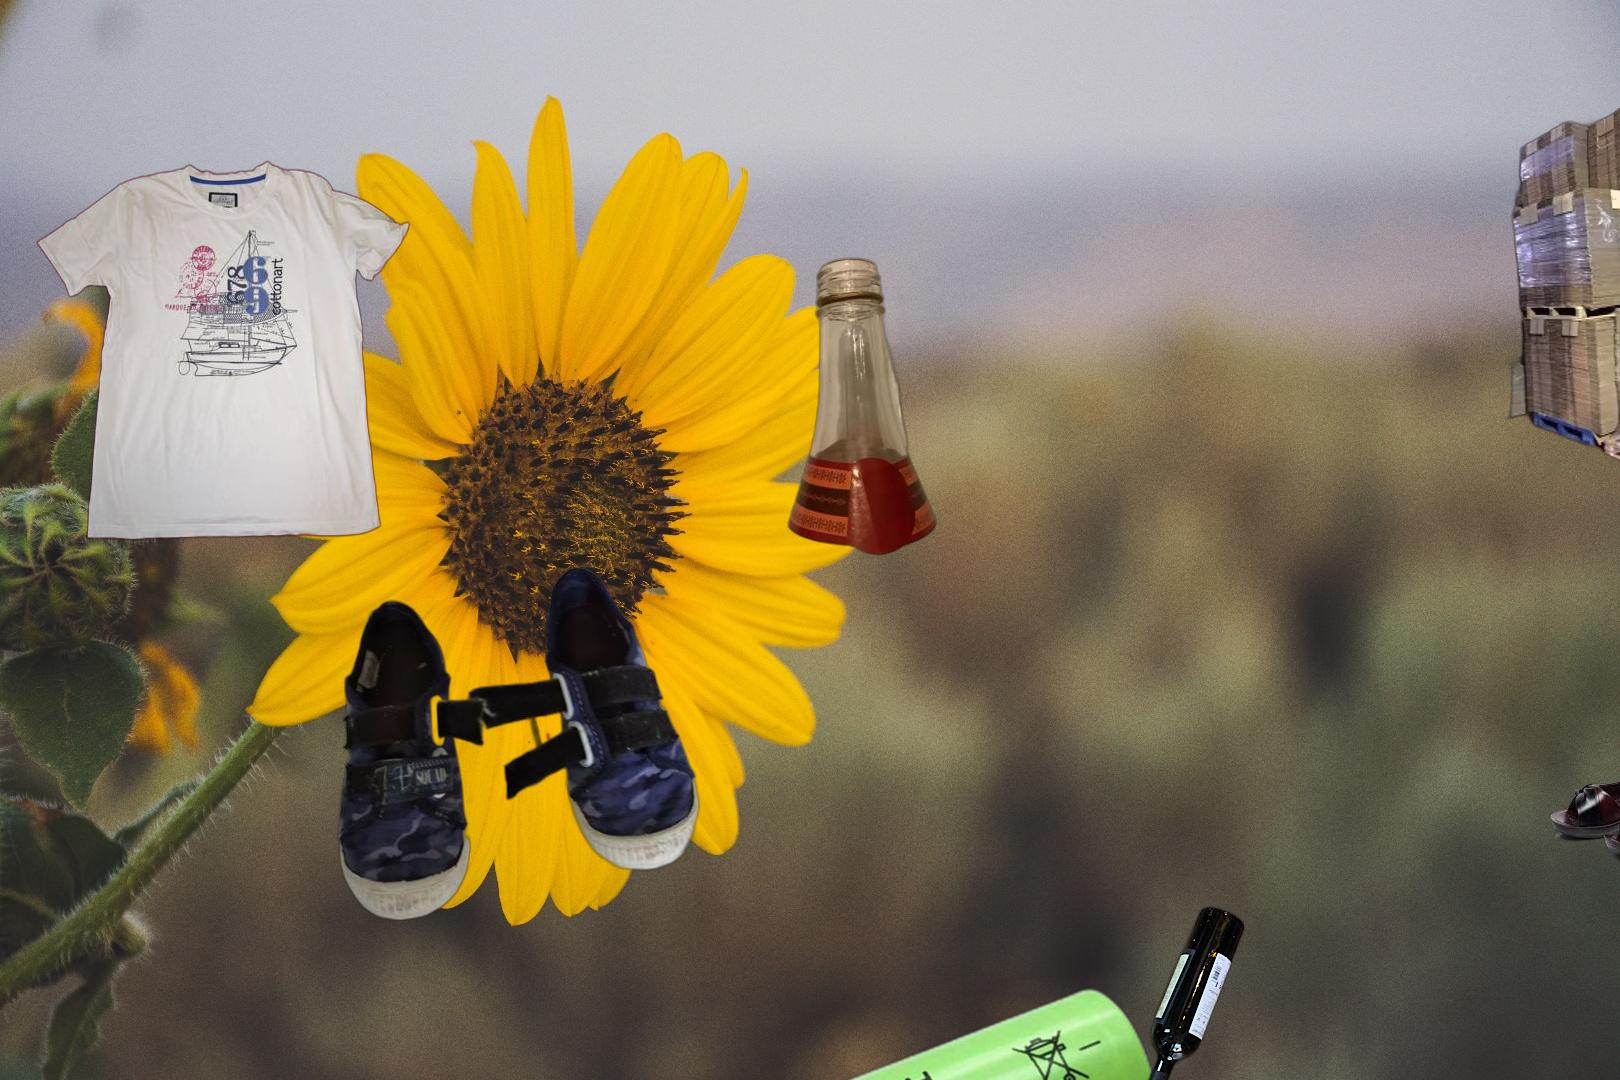battery: (568, 984, 1162, 1080)
clothes: (35, 155, 413, 545)
glass: (783, 254, 940, 558), (1129, 900, 1383, 1080)
shoes: (333, 563, 702, 925), (1546, 742, 1620, 871)
trashbox-cardboard: (1503, 96, 1620, 495)
